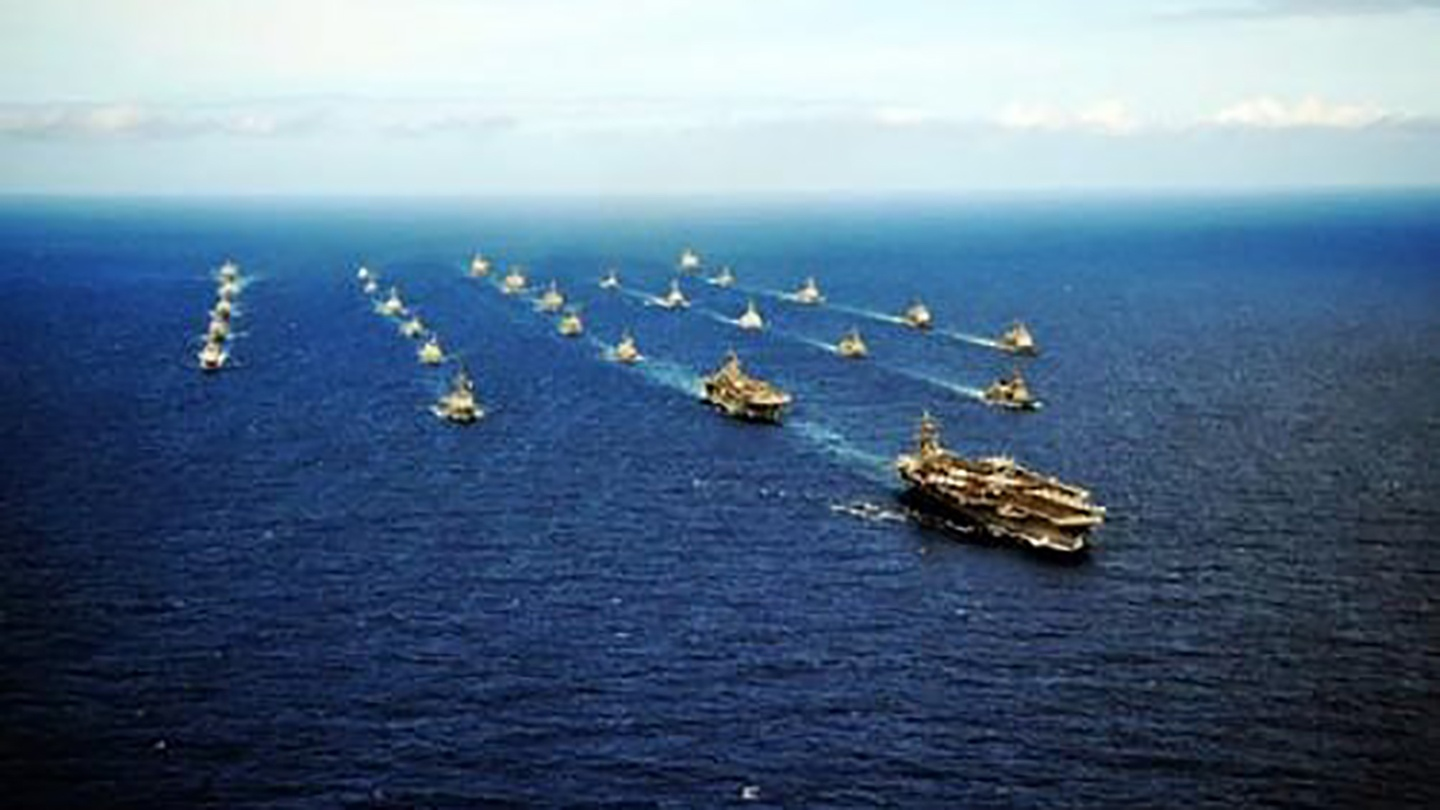warship: (897, 415, 1102, 554), (700, 352, 786, 426)
